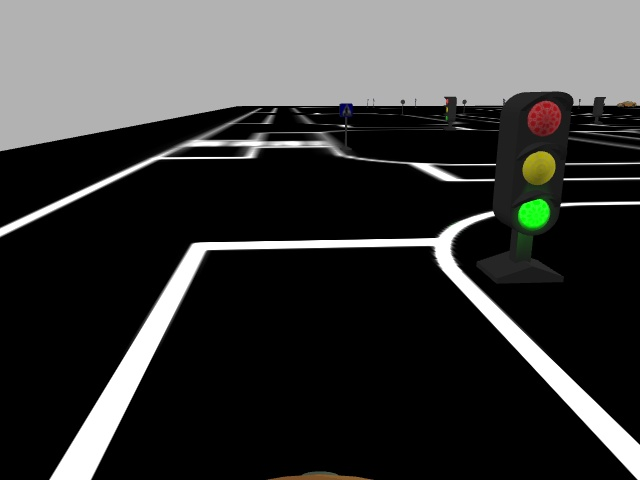green_light: (490, 88, 575, 236)
